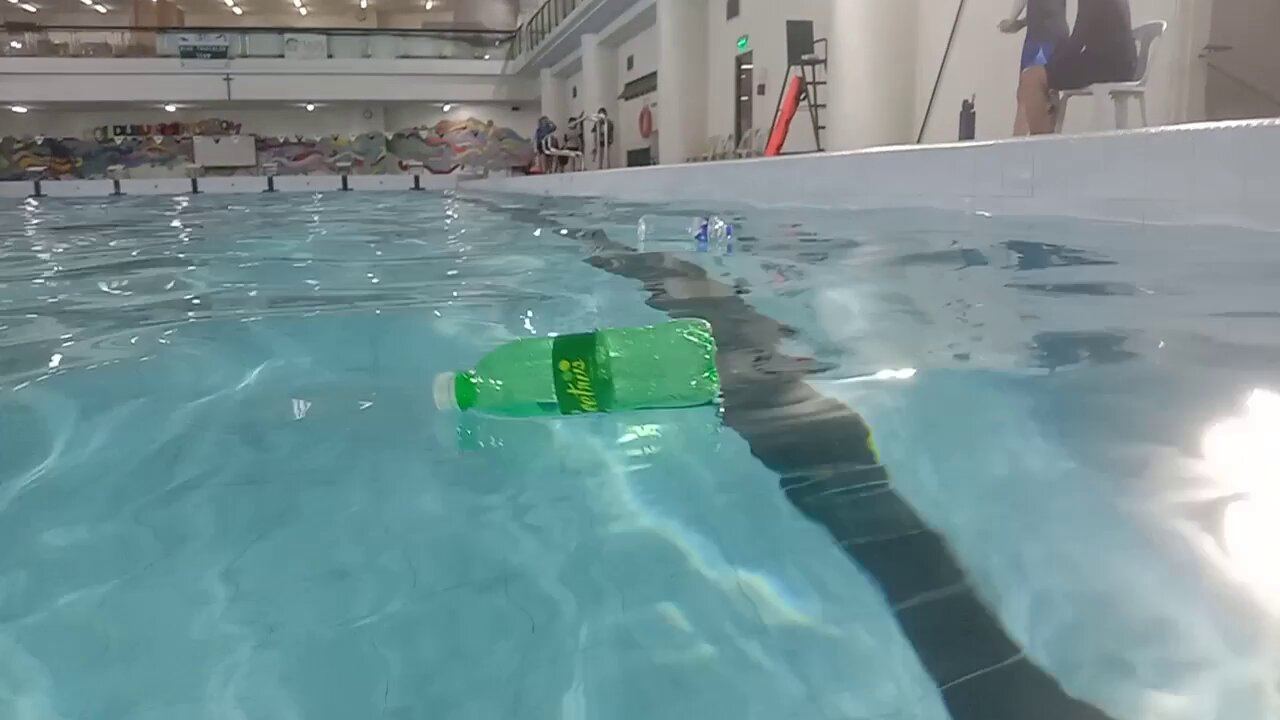plastic_bottle: (429, 315, 724, 418), (637, 212, 737, 245)
